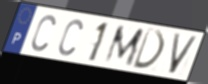1: (87, 21, 110, 63)
C: (57, 17, 85, 57), (30, 13, 57, 53)
D: (131, 27, 168, 71)
M: (102, 25, 147, 68)
V: (167, 32, 200, 76)
